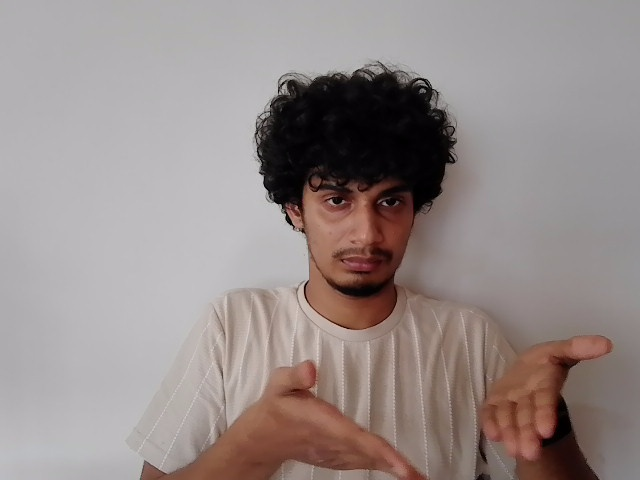here: (270, 332, 620, 478)
